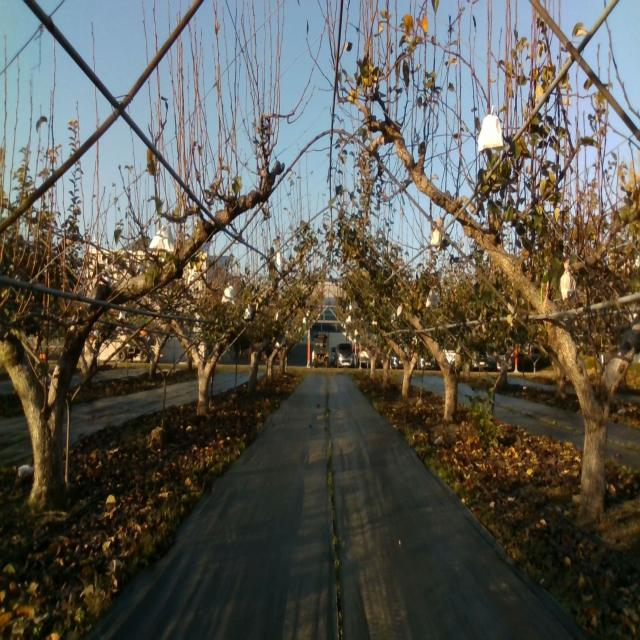pearbags: (478, 106, 506, 156), (150, 223, 175, 255), (560, 261, 576, 299), (221, 282, 235, 306), (426, 289, 438, 307)
